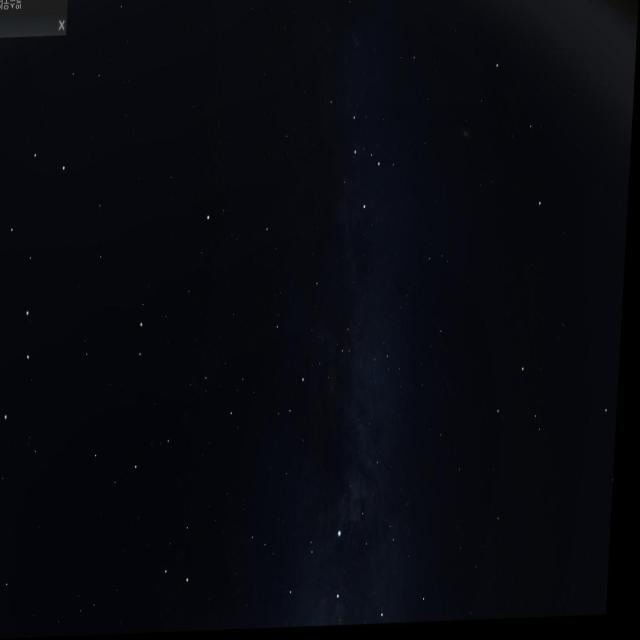cassiopeia: (318, 84, 403, 223)
cygnus: (287, 513, 400, 630)
ursa_major: (0, 140, 74, 445)
